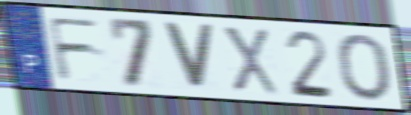2: (283, 28, 334, 100)
7: (108, 15, 158, 90)
F: (45, 15, 104, 82)
O: (333, 31, 394, 103)
V: (159, 19, 217, 93)
X: (219, 24, 281, 97)
